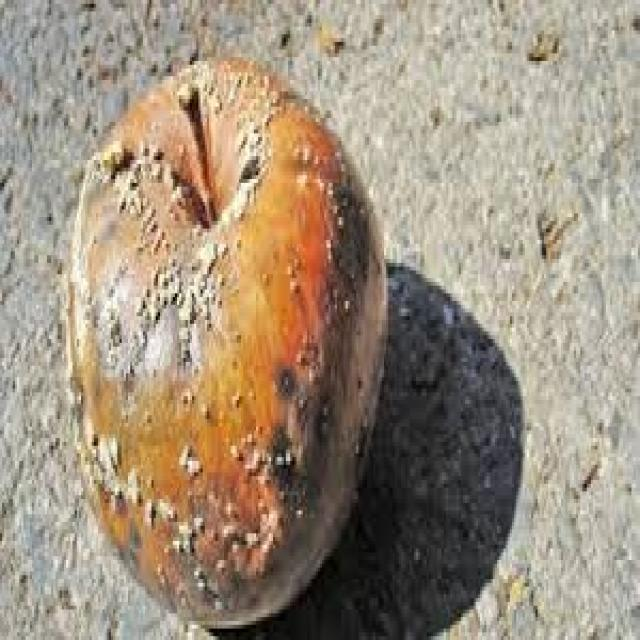Apple: (73, 84, 390, 583)
